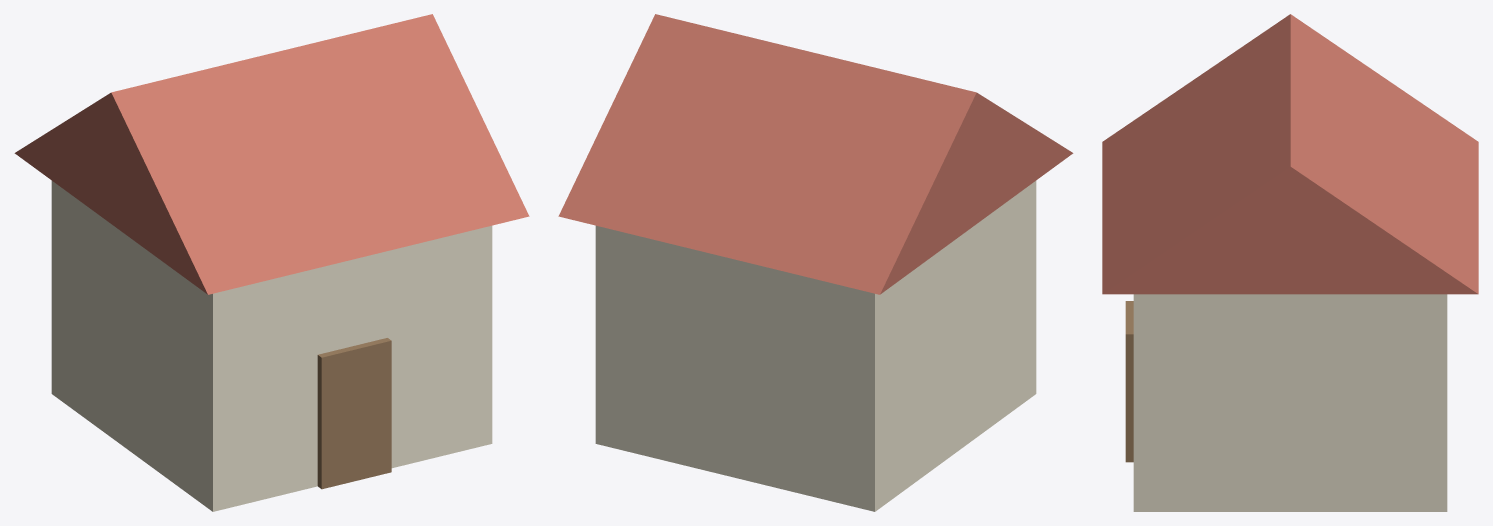
File: house.glb
The picture shows the model from 3 angles, left to right: view 1: azimuth 30°, elevation 25°; view 2: azimuth 150°, elevation 25°; view 3: azimuth 270°, elevation 25°; orthographic projection. The views are drawn at different scales.
Parts seen in each view (by area): view 1: house; view 2: house; view 3: house.
Boxes of the visible parts, x1,y1,x2,y2 form: house: (14, 14, 529, 511); house: (558, 14, 1073, 511); house: (1102, 14, 1478, 511).
Bounding box in the file's own units: 2.3 × 2.5 × 2.4.
